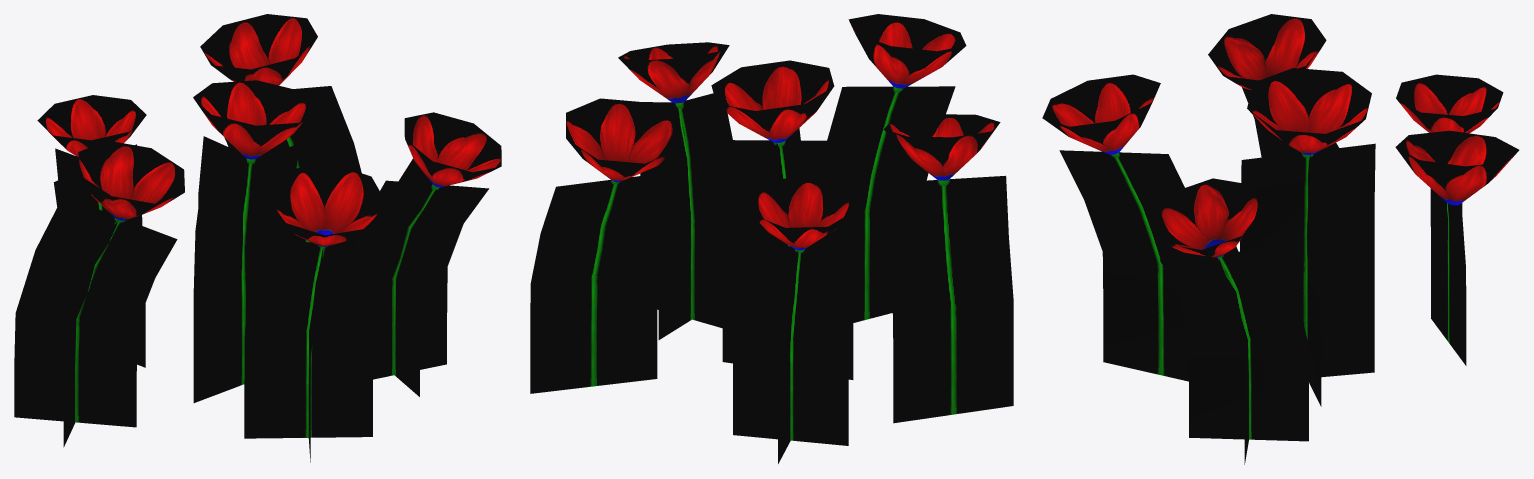
Rendered from Flowers03.fbx.
3 views of the same model, side by side, from view 1: azimuth 30°, elevation 25°; view 2: azimuth 150°, elevation 25°; view 3: azimuth 270°, elevation 25° (orthographic). The views are drawn at different scales.
Parts seen in each view (by area): view 1: Flowers03_LOD0; view 2: Flowers03_LOD0; view 3: Flowers03_LOD0.
Part boxes in pixels (x1,y1,x2,y2): Flowers03_LOD0: [14, 14, 501, 462]; Flowers03_LOD0: [530, 14, 1013, 463]; Flowers03_LOD0: [1042, 14, 1519, 464].
Size of what is drawn, in the model's own units: 0.5737 by 0.3775 by 0.561.
